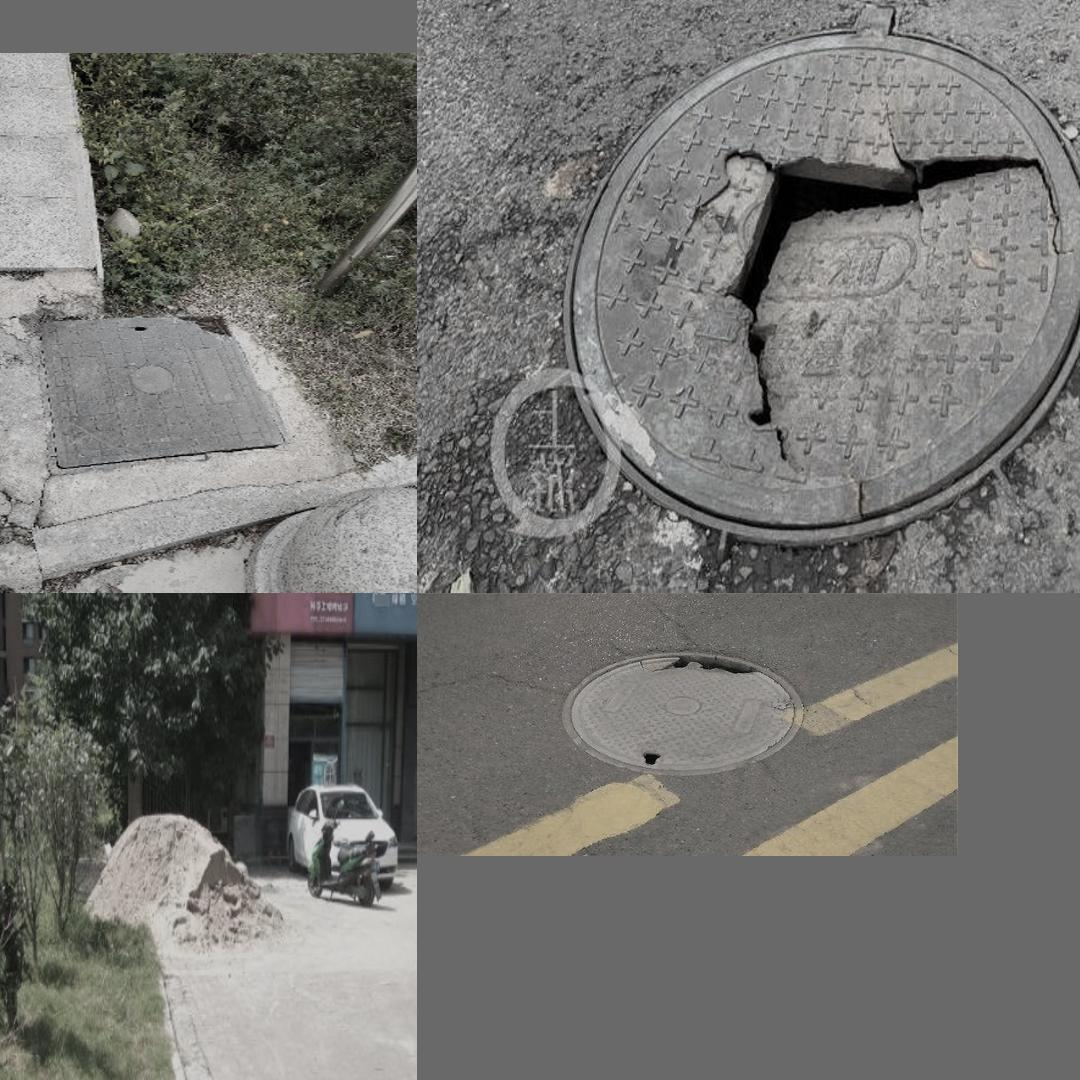broke: (515, 18, 1080, 541), (32, 310, 291, 476), (562, 652, 802, 775)
